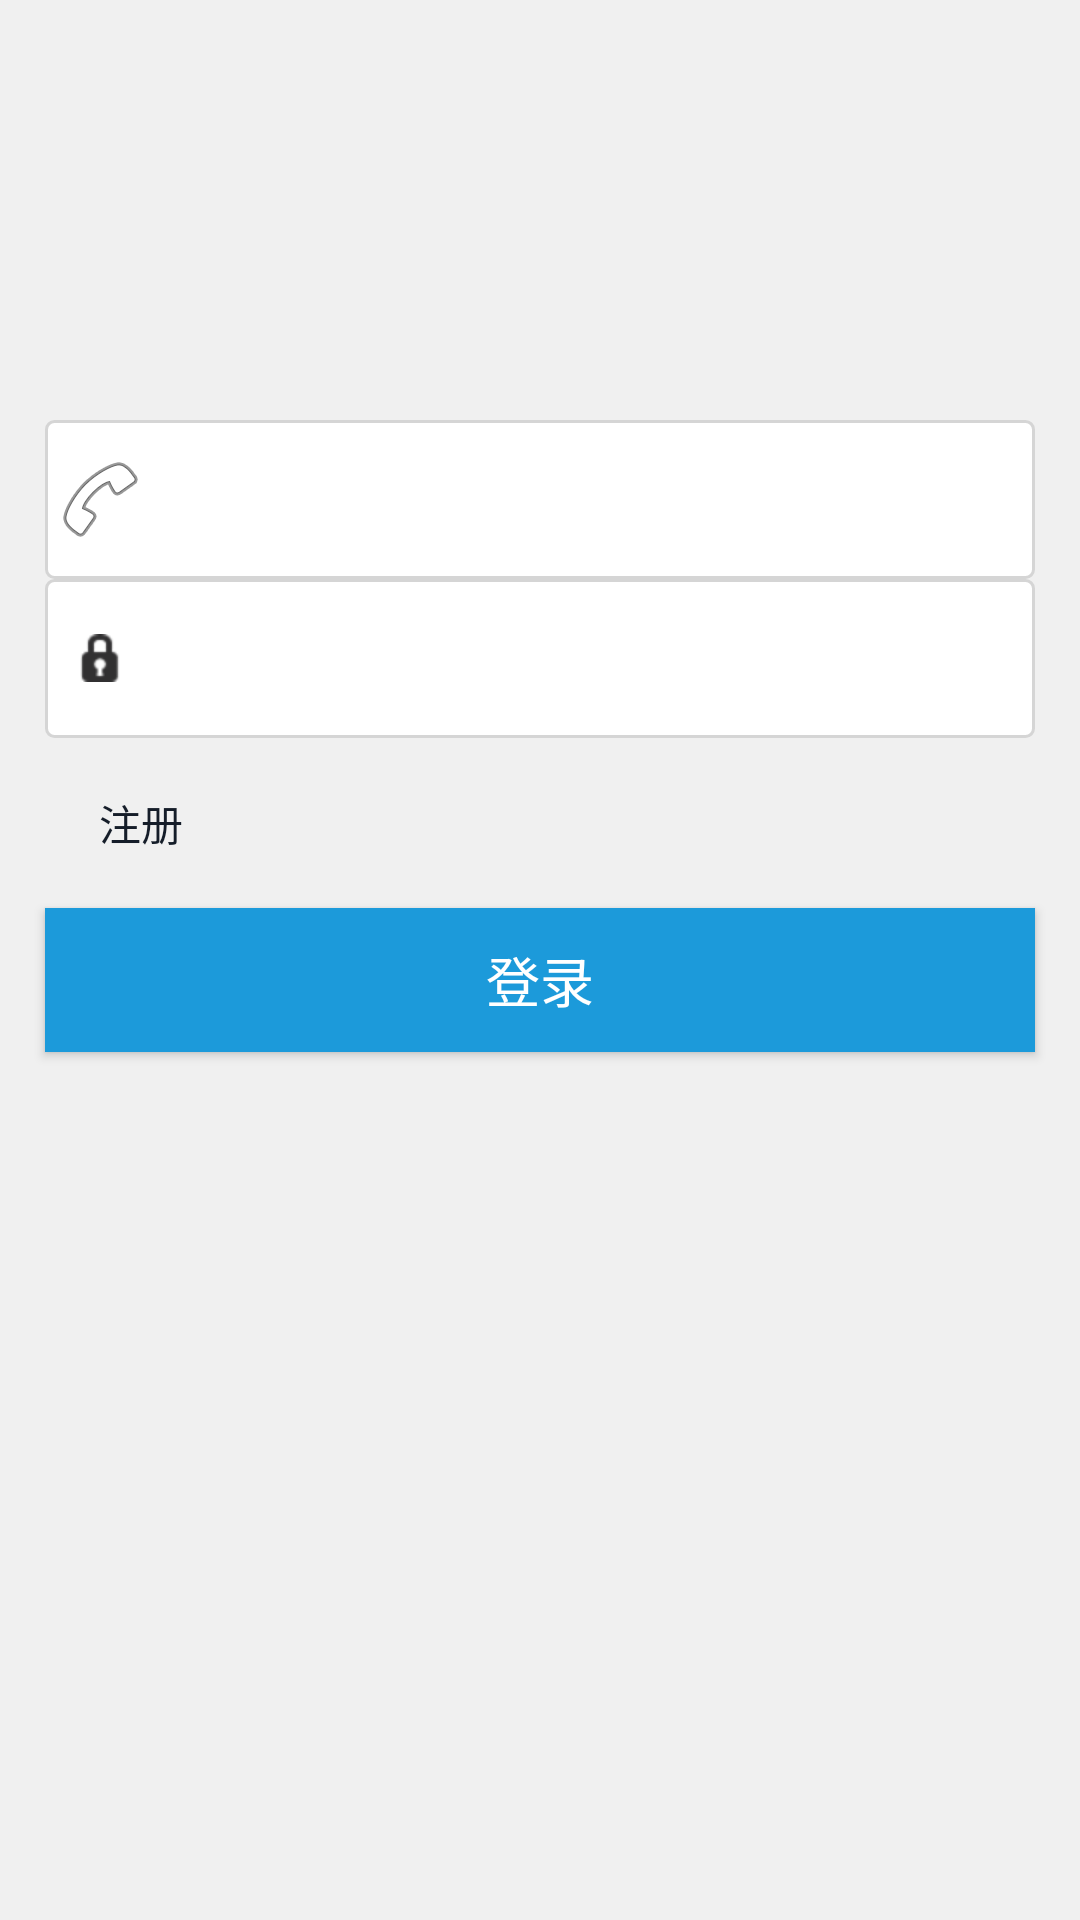

Screen size 1080px x 1920px. Icon name, then its box in pixels as {"left": x1, "top": y1, "right": x2, "bottom": y2}:
call: {"left": 63, "top": 462, "right": 138, "bottom": 537}
secure: {"left": 81, "top": 634, "right": 119, "bottom": 682}
